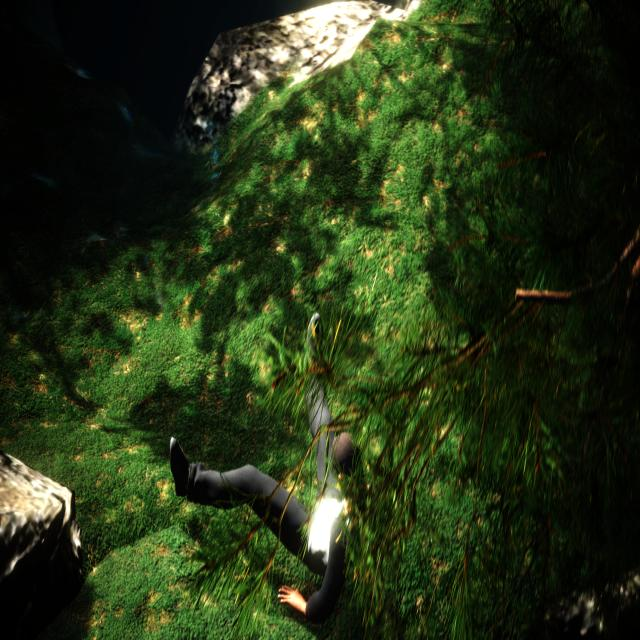Human: (158, 307, 372, 631)
